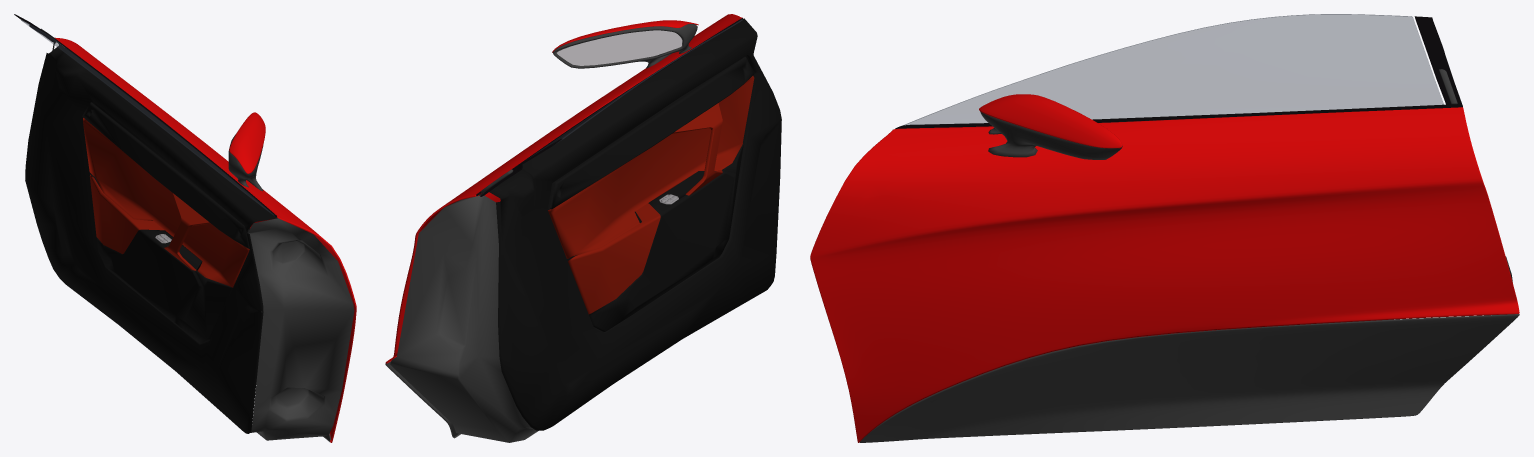
3 views of the same model, side by side, from view 1: azimuth 30°, elevation 25°; view 2: azimuth 150°, elevation 25°; view 3: azimuth 270°, elevation 25° (orthographic). The views are drawn at different scales.
Visible parts, largest first — view 1: InteriorDoorL01, InteriorDoorL04, BodyDoorLColor1, BodyDoorLWindow, BodyDoorLHandle01, BodyDoorLColor2; view 2: InteriorDoorL01, InteriorDoorL04, BodyDoorLColor1, BodyDoorLMirror, BodyDoorLColor2, BodyDoorLHandle01, BodyDoorLWindow; view 3: BodyDoorLColor1, BodyDoorLColor2, BodyDoorLWindow, BodyDoorLHandle01.
Boxes of the visible parts, left/top/right/bottom form: InteriorDoorL01: left=25, top=42, right=354, bottom=440; InteriorDoorL04: left=83, top=118, right=249, bottom=287; BodyDoorLColor1: left=54, top=37, right=356, bottom=442; BodyDoorLWindow: left=21, top=20, right=274, bottom=215; BodyDoorLHandle01: left=14, top=14, right=276, bottom=216; BodyDoorLColor2: left=41, top=28, right=331, bottom=442; InteriorDoorL01: left=390, top=18, right=781, bottom=442; InteriorDoorL04: left=548, top=76, right=754, bottom=314; BodyDoorLColor1: left=385, top=14, right=742, bottom=363; BodyDoorLMirror: left=557, top=30, right=682, bottom=65; BodyDoorLColor2: left=385, top=24, right=697, bottom=438; BodyDoorLHandle01: left=476, top=18, right=742, bottom=196; BodyDoorLWindow: left=530, top=19, right=742, bottom=157; BodyDoorLColor1: left=810, top=94, right=1519, bottom=442; BodyDoorLColor2: left=859, top=69, right=1519, bottom=442; BodyDoorLWindow: left=904, top=14, right=1443, bottom=125; BodyDoorLHandle01: left=895, top=16, right=1462, bottom=128.
Size of the model in its own units: 0.4344 by 0.9591 by 1.67.
9 materials, 1 textured.
